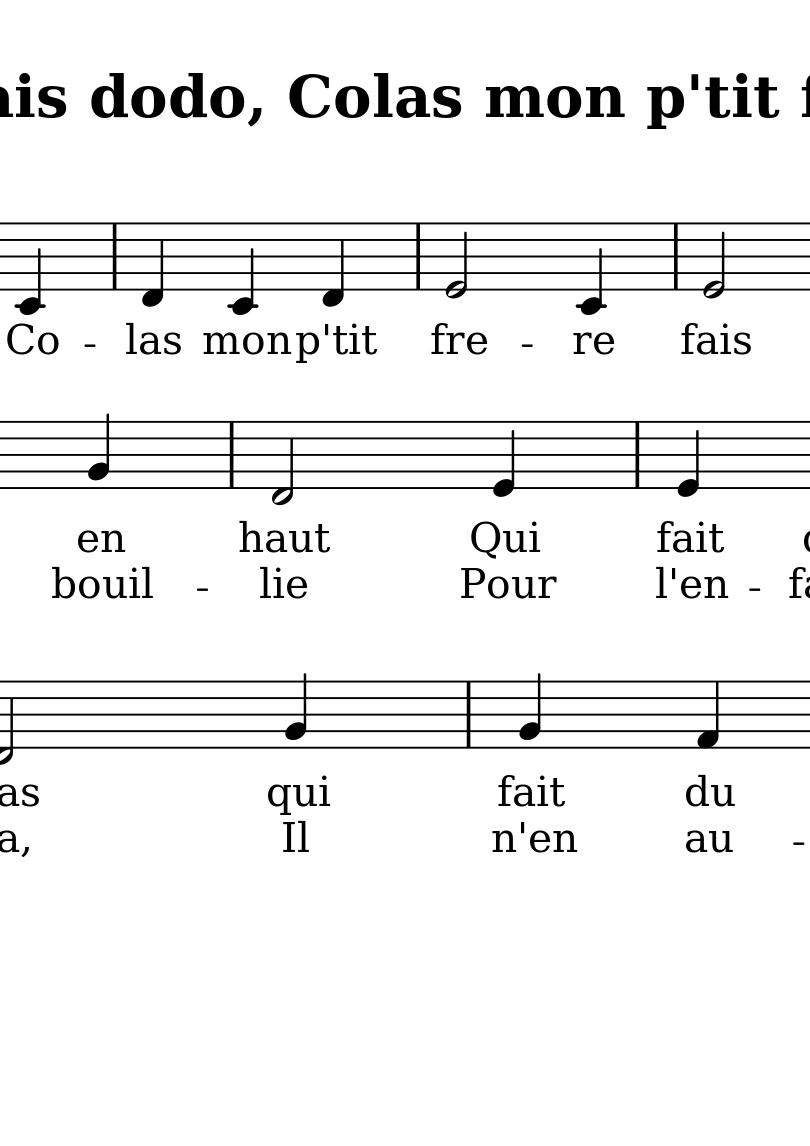2_-1: (266, 421, 297, 508)
2_0: (701, 220, 730, 301), (445, 218, 470, 301)
4_-1: (322, 221, 348, 308), (141, 221, 167, 307)
4_-2: (229, 219, 259, 317), (578, 220, 606, 315), (16, 222, 44, 316)
4_0: (676, 417, 703, 499), (492, 419, 518, 498)
4_1: (695, 680, 722, 749)
4_2: (517, 671, 546, 751), (284, 672, 310, 751), (87, 410, 112, 491)
Single_barline: (410, 222, 427, 290), (223, 421, 240, 488), (668, 223, 685, 290), (460, 681, 477, 747), (106, 223, 122, 290), (629, 421, 645, 488)
